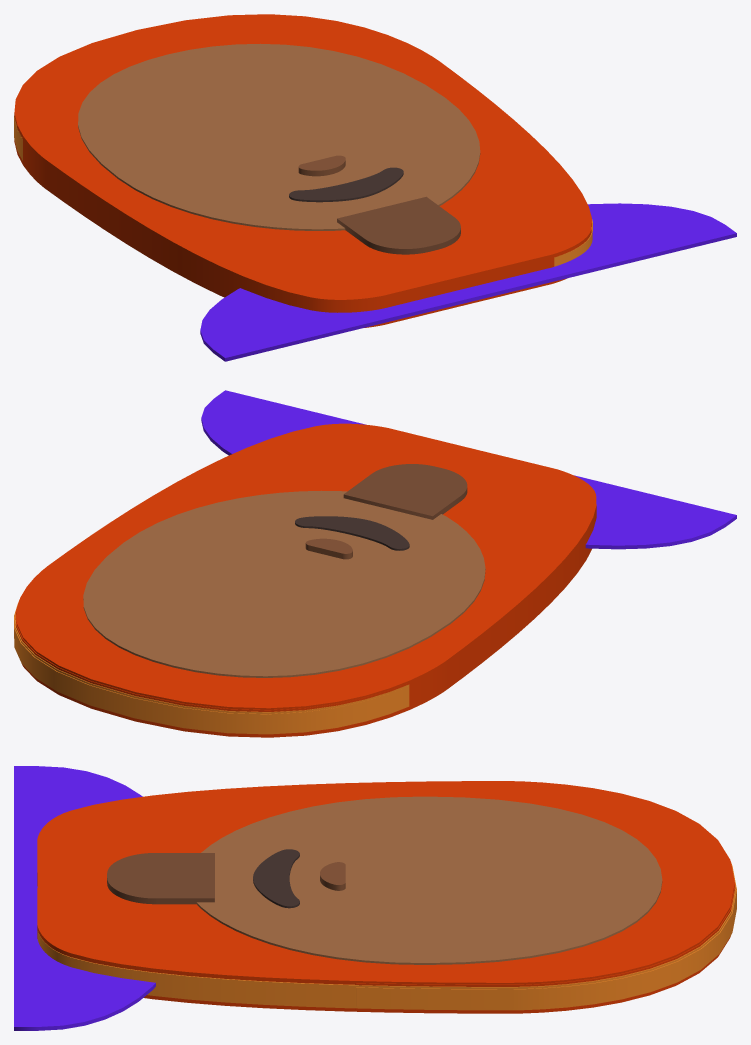
Rendered from emoji_u1f469_1f3fe_200d_1f9b0.glb.
The picture shows the model from 3 angles, top to bottom: view 1: azimuth 30°, elevation 25°; view 2: azimuth 150°, elevation 25°; view 3: azimuth 270°, elevation 25°; orthographic projection. The views are drawn at different scales.
Parts seen in each view (by area): view 1: emoji_u1f469_1f3fe_200d_1f9b0; view 2: emoji_u1f469_1f3fe_200d_1f9b0; view 3: emoji_u1f469_1f3fe_200d_1f9b0.
Part boxes in pixels (x1,y1,x2,y2): emoji_u1f469_1f3fe_200d_1f9b0: [14, 14, 736, 361]; emoji_u1f469_1f3fe_200d_1f9b0: [14, 390, 736, 737]; emoji_u1f469_1f3fe_200d_1f9b0: [14, 766, 736, 1030].
Bounding box in the file's own units: 0.029 × 0.0024 × 0.034.
